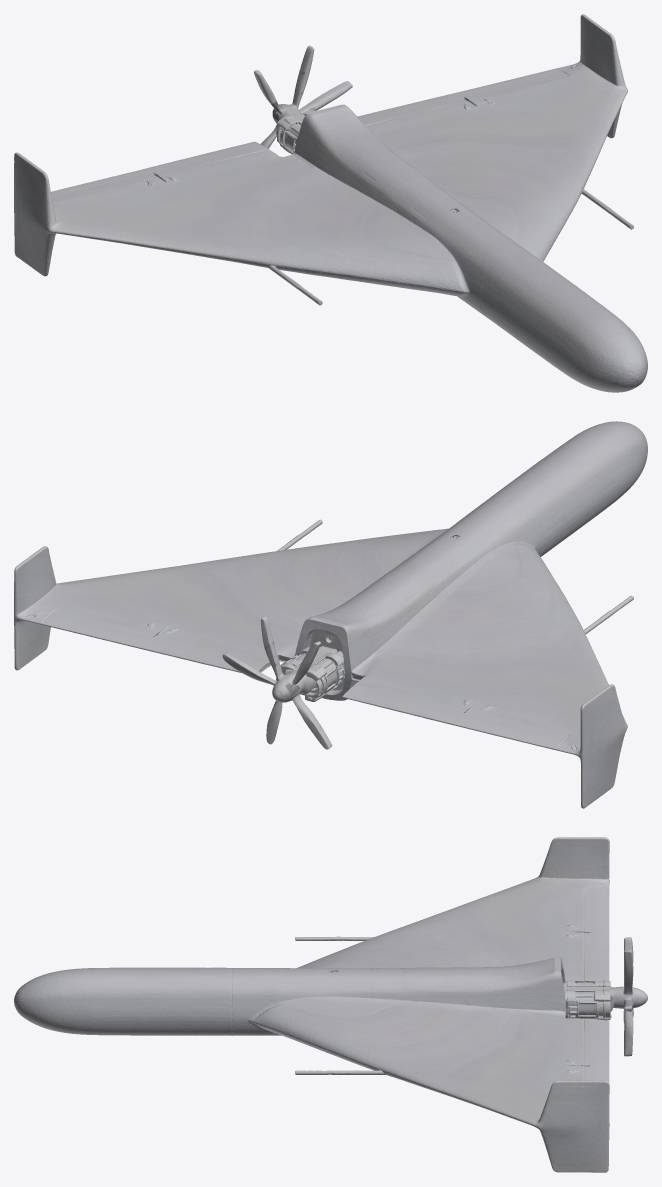
File: shahed-optimized v2.glb
3 views of the same model, one above another, from view 1: azimuth 30°, elevation 25°; view 2: azimuth 150°, elevation 25°; view 3: azimuth 270°, elevation 25° (orthographic). The views are drawn at different scales.
Parts seen in each view (by area): view 1: ShahedBody, Rotor_A; view 2: ShahedBody, Rotor_A; view 3: ShahedBody, Rotor_A.
Part boxes in pixels (<box>): ShahedBody: <box>14,14,647,392</box>; Rotor_A: <box>254,45,352,148</box>; ShahedBody: <box>14,421,647,808</box>; Rotor_A: <box>222,616,363,749</box>; ShahedBody: <box>14,837,633,1172</box>; Rotor_A: <box>609,937,647,1056</box>.
Size of the model in its own units: 1.76 by 0.3652 by 1.9.
Materials: 1 (1 with a texture image).
